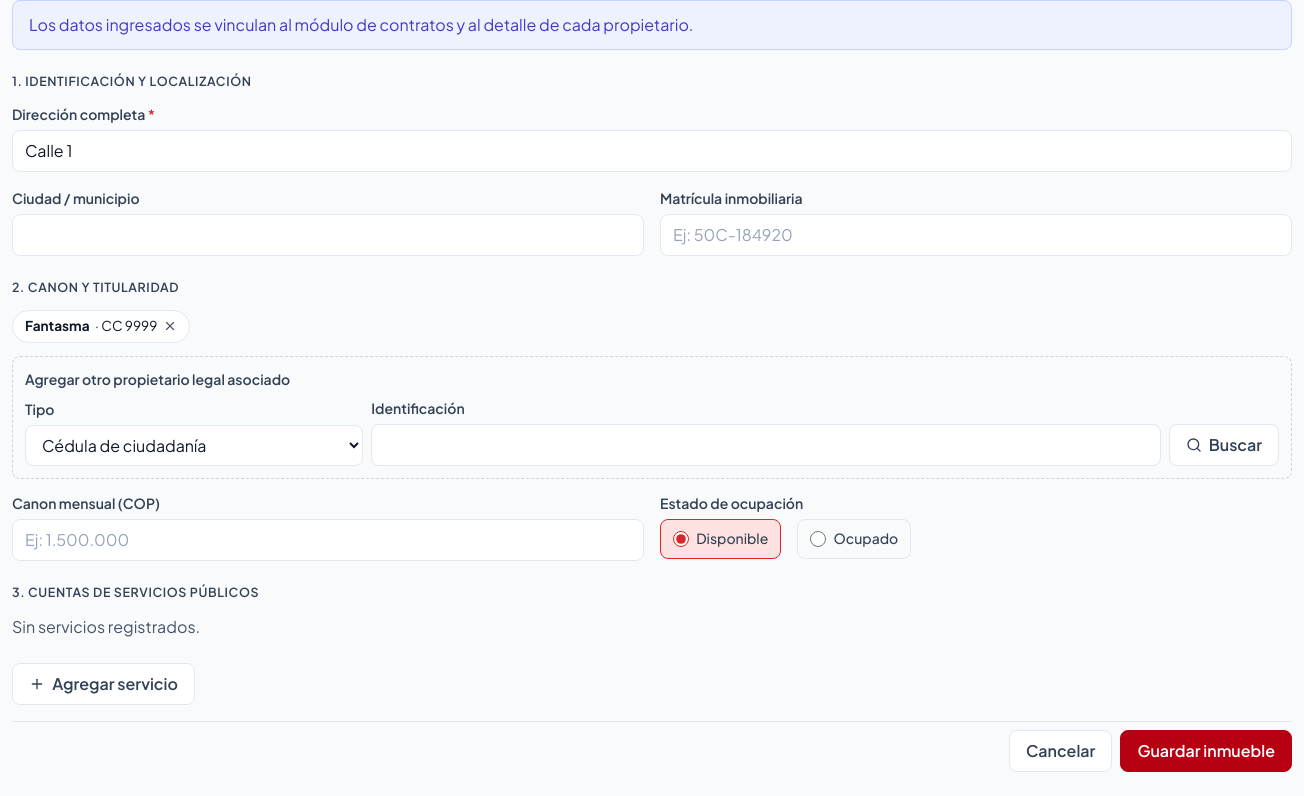
Test: InmuebleForm › muestra el error de la API cuando el propietario ya no existe
Click the button "Guardar inmueble". click: (1206, 751)
box: x1=1120 y1=730 x2=1292 y2=772
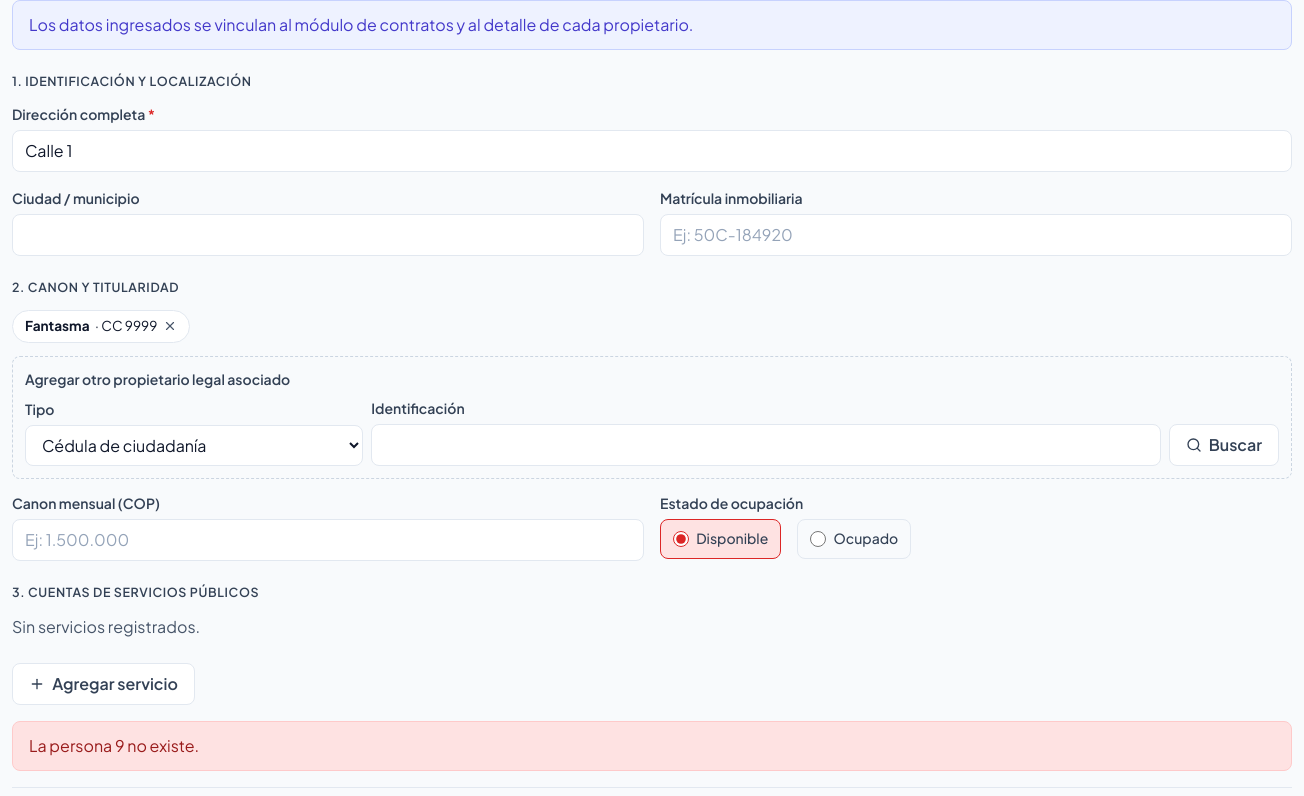
Expected: the message reads "La persona 9 no existe.", x1=29 y1=735 x2=199 y2=756
